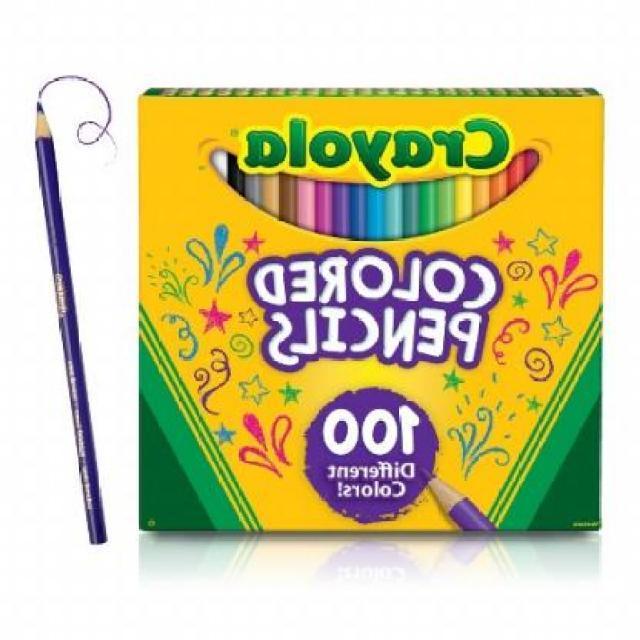Pencil: (27, 94, 59, 160)
